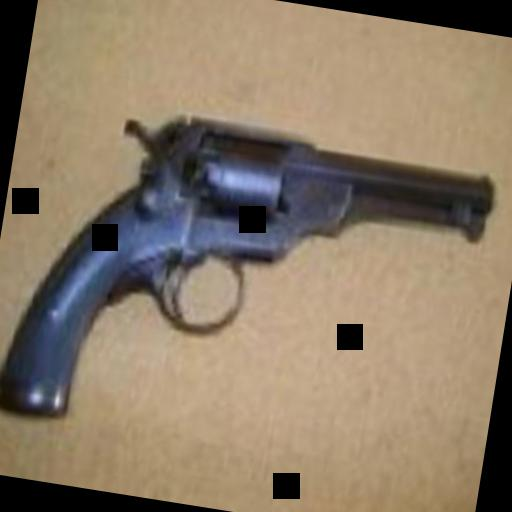Handgun: (0, 80, 493, 482)
